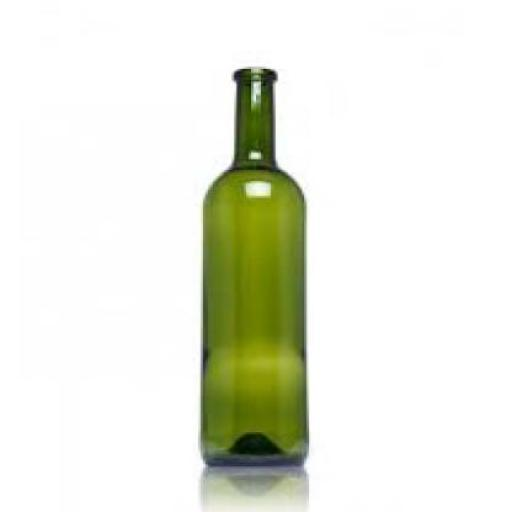glass: (198, 66, 307, 472)
